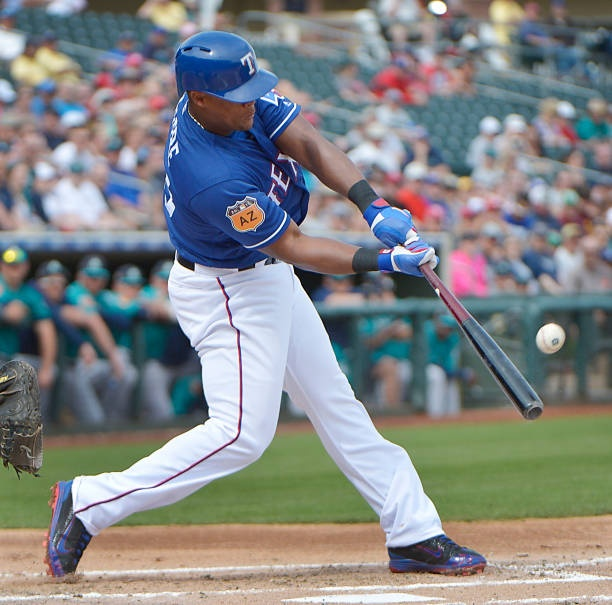bita: (402, 242, 546, 419)
